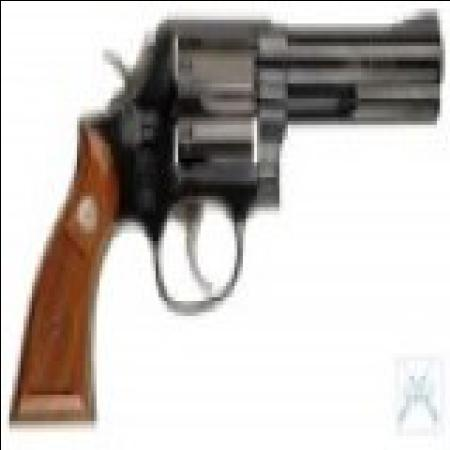Pistol: (9, 4, 441, 416)
